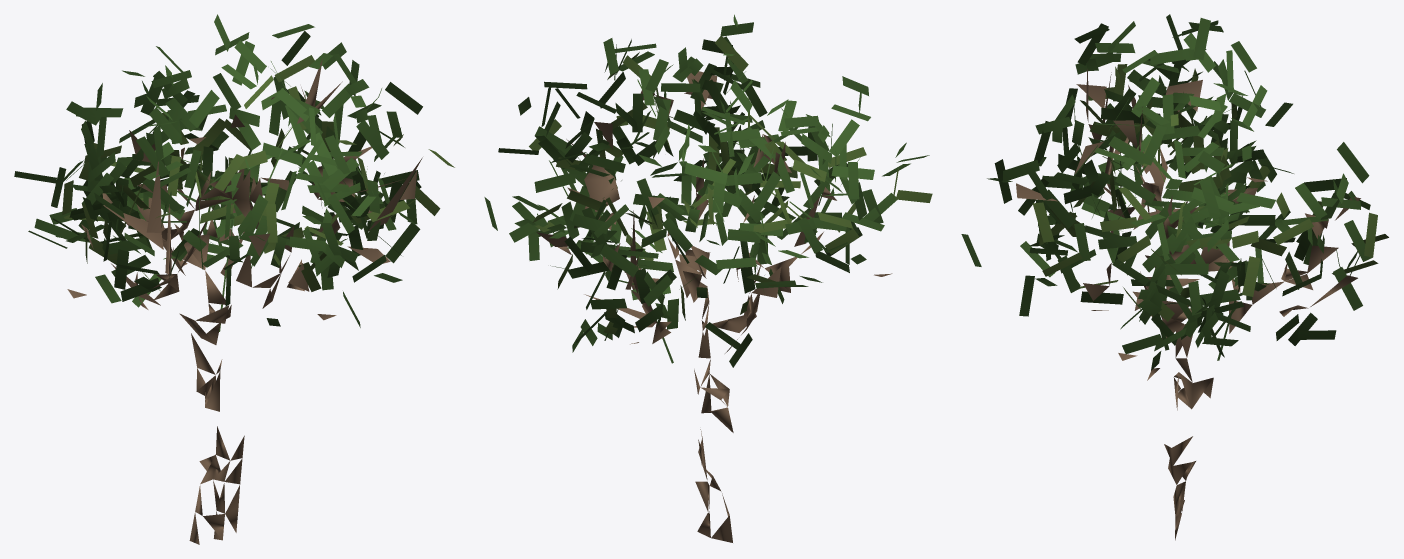
The model's file is arvore_1_longe.glb.
3 views of the same model, side by side, from view 1: azimuth 30°, elevation 25°; view 2: azimuth 150°, elevation 25°; view 3: azimuth 270°, elevation 25° (orthographic).
Visible parts, largest first — view 1: arvore_1_longe; view 2: arvore_1_longe; view 3: arvore_1_longe.
Part boxes in pixels (box(x1,y1,x2,y2)): arvore_1_longe: box(14, 14, 454, 544); arvore_1_longe: box(484, 14, 932, 542); arvore_1_longe: box(961, 14, 1388, 540).
Bounding box in the file's own units: 2.01 × 2.53 × 1.89.
